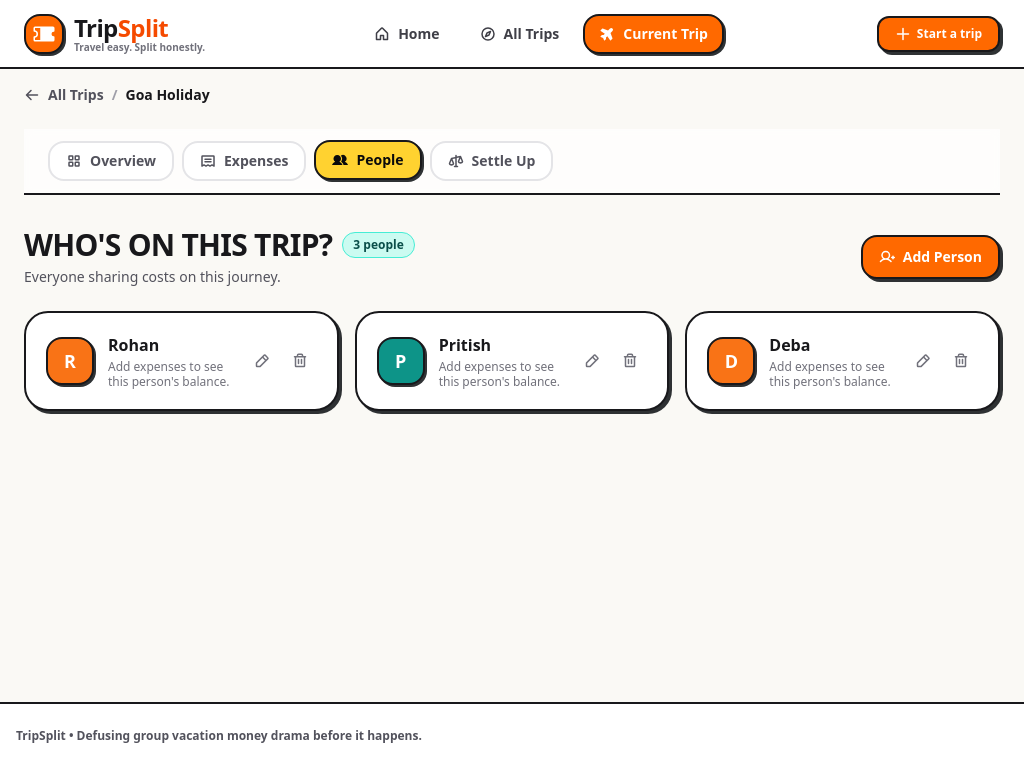
Test: Data Integrity & Lifecycle Hardening Tests (Step 8) › 5. participant removal is prevented when participant has existing financial history
The image size is (1024, 768).
Click the button named "Remove Rohan": (300, 361) left=283, top=344, right=317, bottom=378
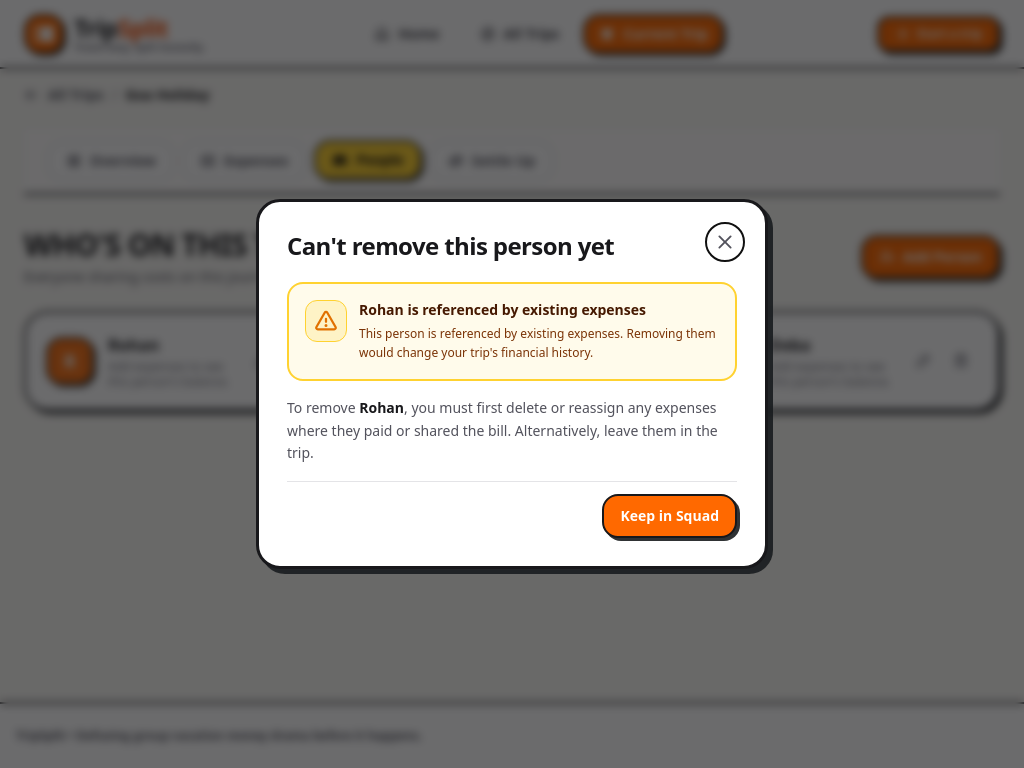
Now the heading "Can't remove this person yet" is shown, box left=287, top=230, right=614, bottom=262
Now the text "Rohan is referenced by existing expenses" is shown, box left=359, top=300, right=646, bottom=319
Now the button "Keep in Squad" is shown, box left=602, top=494, right=737, bottom=538
